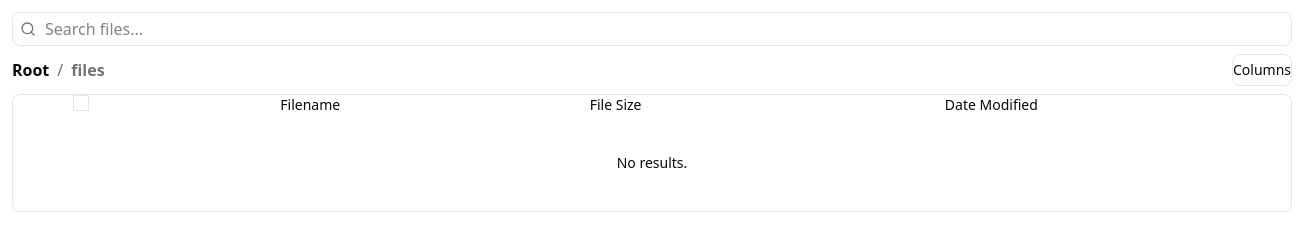
it: Search Integration › Search API Integration › handles search API errors gracefully
In the field with placeholder "Search files...": (652, 29) [12, 12, 1292, 46], type "test"
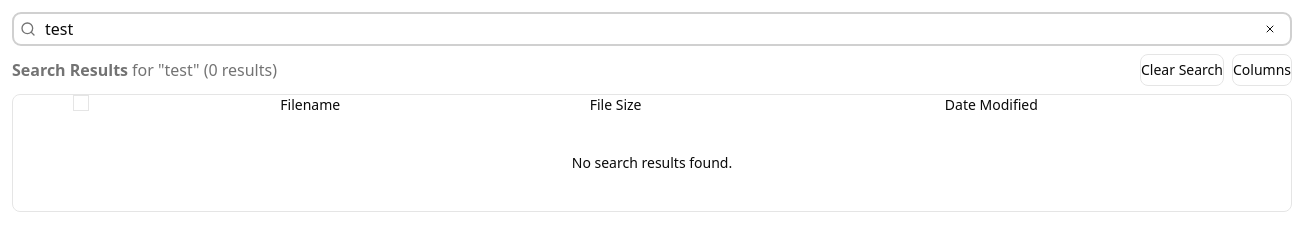
Now the text "No search results found." is shown, box [13, 115, 1291, 211]
